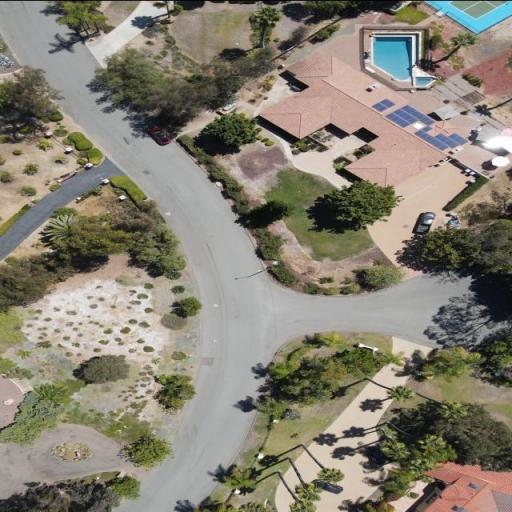solar-panel: (413, 125, 469, 150), (385, 103, 435, 127), (371, 98, 396, 111)
